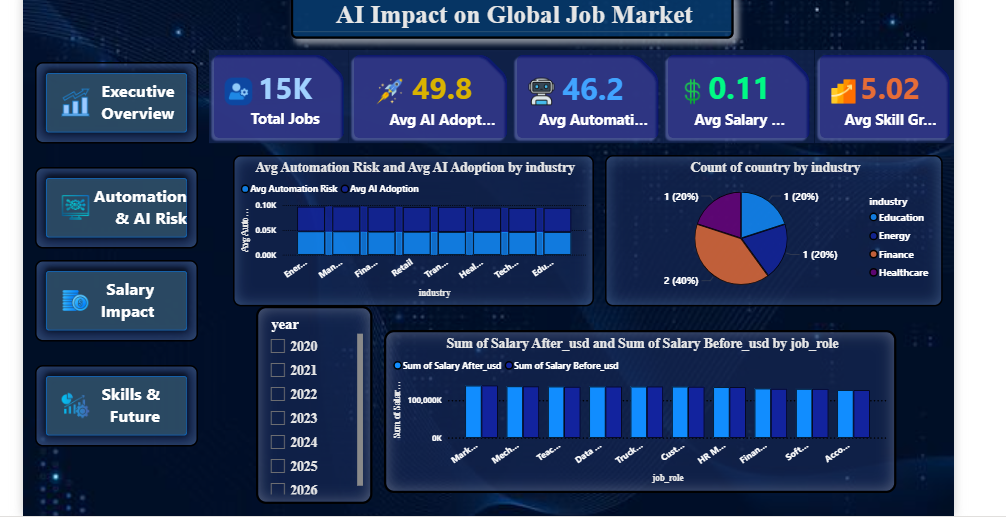

Layout of this report page (visuals, bound fields, positions):
{"tool":"powerbi","page":{"name":"Executive Overview","canvas":[1280,720],"ordinal":0},"visuals":[{"type":"shape","box":[1088,80,192,128],"z":0},{"type":"shape","box":[880,80,208,128],"z":1000},{"type":"shape","box":[672,80,208,128],"z":2000},{"type":"shape","box":[448,80,224,128],"z":3000},{"type":"shape","box":[16,96,224,112],"z":4000},{"type":"shape","box":[16,512,224,112],"z":5000},{"type":"shape","box":[16,368,224,112],"z":6000},{"type":"shape","box":[16,240,224,112],"z":7000},{"type":"textbox","box":[368,0,608,64],"z":8000},{"type":"columnChart","fields":{"Category":["ai_job_replacement_2020_2026.industry"],"Y":["ai_job_replacement_2020_2026.Avg Automation Risk","ai_job_replacement_2020_2026.Avg AI Adoption"]},"box":[288,224,496,208],"z":9000},{"type":"pieChart","fields":{"Y":["CountNonNull(ai_job_replacement_2020_2026.country)"],"Series":["ai_job_replacement_2020_2026.industry"]},"box":[800,224,464,208],"z":10000},{"type":"clusteredColumnChart","fields":{"Category":["ai_job_replacement_2020_2026.job_role"],"Y":["Sum(ai_job_replacement_2020_2026.Salary After_usd)","Sum(ai_job_replacement_2020_2026.Salary Before_usd)"]},"box":[496,464,704,224],"z":11000},{"type":"slicer","fields":{"Values":["ai_job_replacement_2020_2026.year"]},"box":[320,432,160,272],"z":12000},{"type":"image","box":[48,128,48,48],"z":14000},{"type":"image","box":[48,272,48,48],"z":17000},{"type":"image","box":[48,400,48,48],"z":18000},{"type":"image","box":[48,544,48,48],"z":20000},{"type":"shape","box":[256,80,192,128],"z":21000},{"type":"card","fields":{"Values":["ai_job_replacement_2020_2026.Total Jobs"]},"box":[272,80,176,128],"z":22000},{"type":"card","fields":{"Values":["ai_job_replacement_2020_2026.Avg AI Adoption"]},"box":[496,96,160,96],"z":23000},{"type":"card","fields":{"Values":["ai_job_replacement_2020_2026.Avg Skill Growth"]},"box":[1120,96,144,96],"z":24000},{"type":"card","fields":{"Values":["ai_job_replacement_2020_2026.Avg Automation Risk"]},"box":[704,96,160,96],"z":25000},{"type":"card","fields":{"Values":["ai_job_replacement_2020_2026.Avg Salary Change"]},"box":[912,80,144,128],"z":26000},{"type":"image","box":[1104,112,48,48],"z":27000},{"type":"image","box":[896,112,48,48],"z":28000},{"type":"image","box":[480,112,48,48],"z":29000},{"type":"image","box":[688,112,48,48],"z":30000},{"type":"image","box":[272,112,48,48],"z":31000}]}

Visuals, with their boxes on the page's 1280x720 design canvas (x1, y1, x2, y2). These are canvas units, not pixel positions in the 1006x517 screenshot, which may show the page scaled, cropped or inside an application window:
shape: Rect(1088, 80, 1280, 208)
shape: Rect(880, 80, 1088, 208)
shape: Rect(672, 80, 880, 208)
shape: Rect(448, 80, 672, 208)
shape: Rect(16, 96, 240, 208)
shape: Rect(16, 512, 240, 624)
shape: Rect(16, 368, 240, 480)
shape: Rect(16, 240, 240, 352)
textbox: Rect(368, 0, 976, 64)
columnChart - ai_job_replacement_2020_2026.industry x ai_job_replacement_2020_2026.Avg Automation Risk: Rect(288, 224, 784, 432)
pieChart - CountNonNull(ai_job_replacement_2020_2026.country) x ai_job_replacement_2020_2026.industry: Rect(800, 224, 1264, 432)
clusteredColumnChart - ai_job_replacement_2020_2026.job_role x Sum(ai_job_replacement_2020_2026.Salary After_usd): Rect(496, 464, 1200, 688)
slicer - ai_job_replacement_2020_2026.year: Rect(320, 432, 480, 704)
image: Rect(48, 128, 96, 176)
image: Rect(48, 272, 96, 320)
image: Rect(48, 400, 96, 448)
image: Rect(48, 544, 96, 592)
shape: Rect(256, 80, 448, 208)
card - ai_job_replacement_2020_2026.Total Jobs: Rect(272, 80, 448, 208)
card - ai_job_replacement_2020_2026.Avg AI Adoption: Rect(496, 96, 656, 192)
card - ai_job_replacement_2020_2026.Avg Skill Growth: Rect(1120, 96, 1264, 192)
card - ai_job_replacement_2020_2026.Avg Automation Risk: Rect(704, 96, 864, 192)
card - ai_job_replacement_2020_2026.Avg Salary Change: Rect(912, 80, 1056, 208)
image: Rect(1104, 112, 1152, 160)
image: Rect(896, 112, 944, 160)
image: Rect(480, 112, 528, 160)
image: Rect(688, 112, 736, 160)
image: Rect(272, 112, 320, 160)
